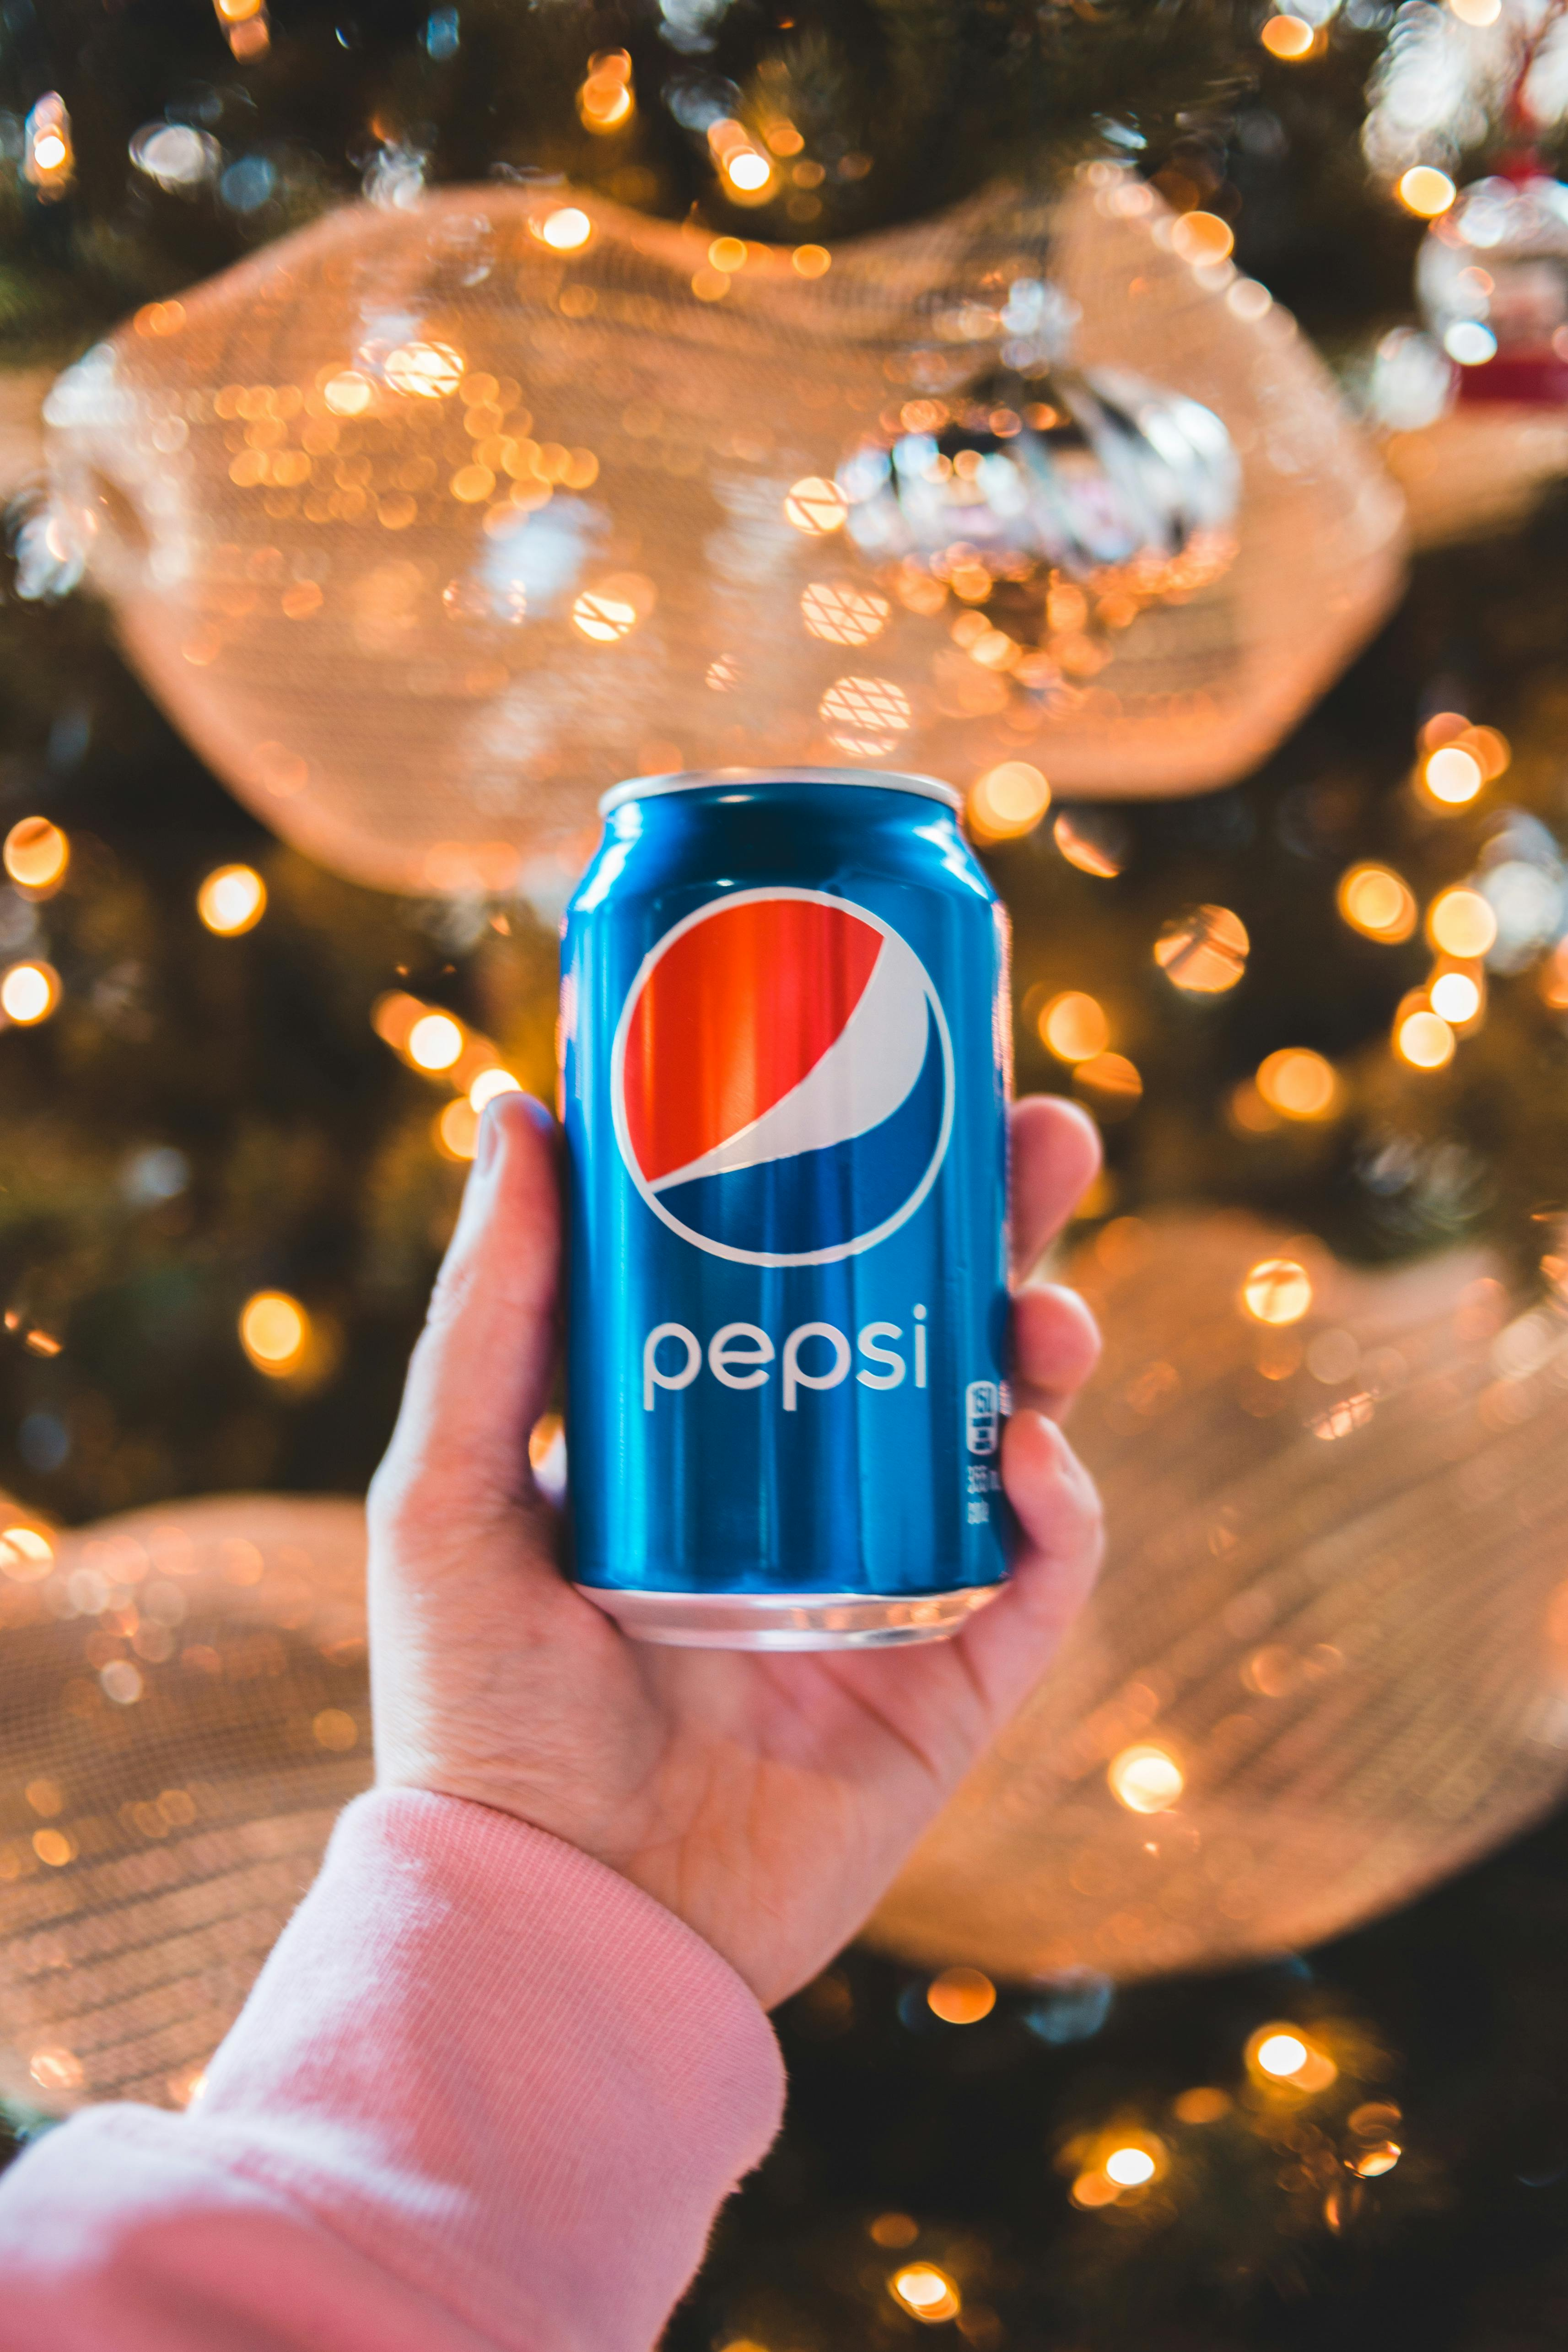PEPSI: (564, 804, 1004, 1648)
